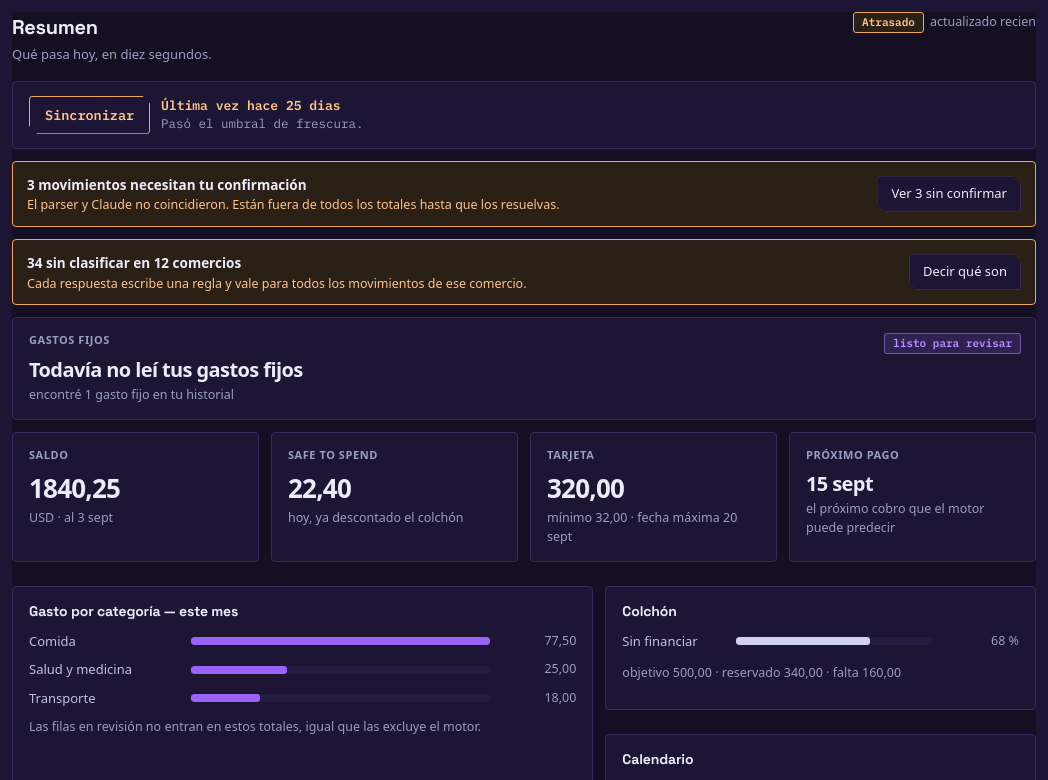
Scenario: el sync vive adentro del chip › un 503 sin causa —el server local— no ofrece conectar nada
The width and height of the screenshot is (1048, 780).
What coordinates should you click on to do the following:
click the button with test id "sync-button-accion"
I would click on:
 (90, 115)
Its box is [29,96,150,134].
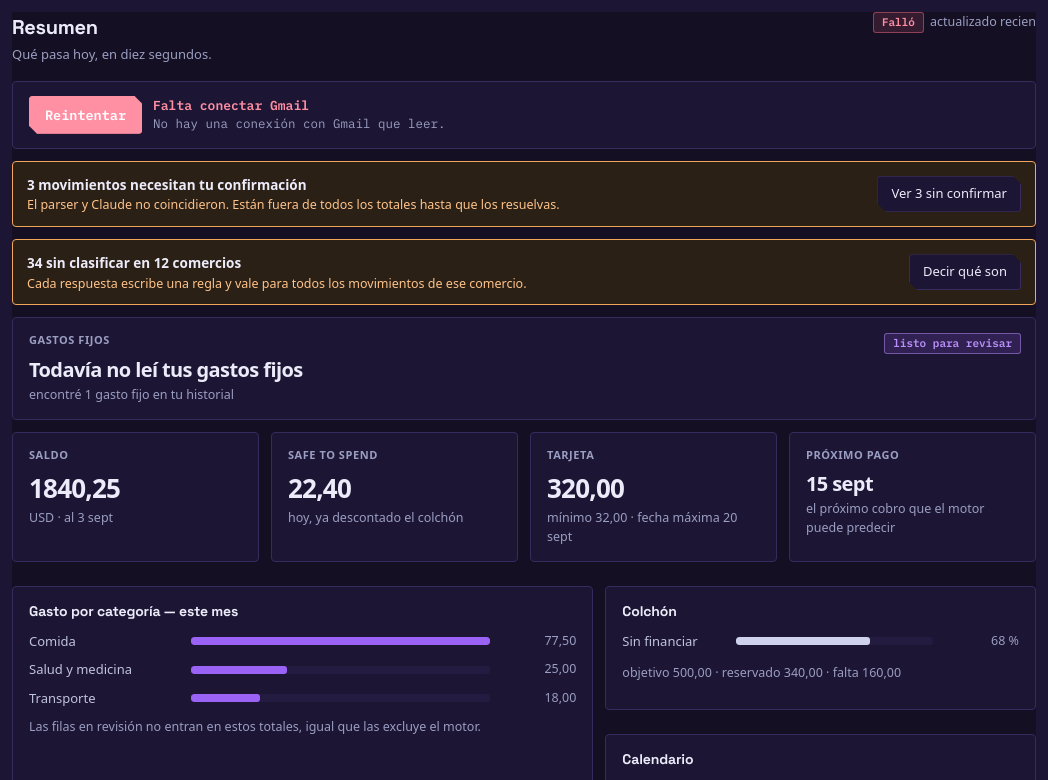
Check: the text with test id "sync-button-titulo" reads "Falta conectar Gmail", box [153,97,309,114]
